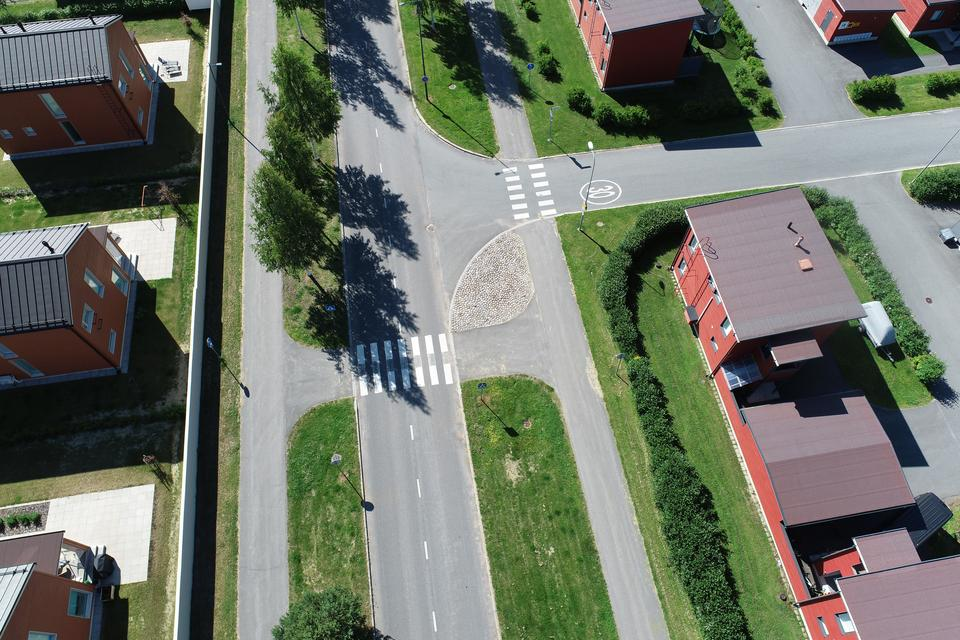intersection: (228, 292, 627, 450), (312, 95, 593, 242)
